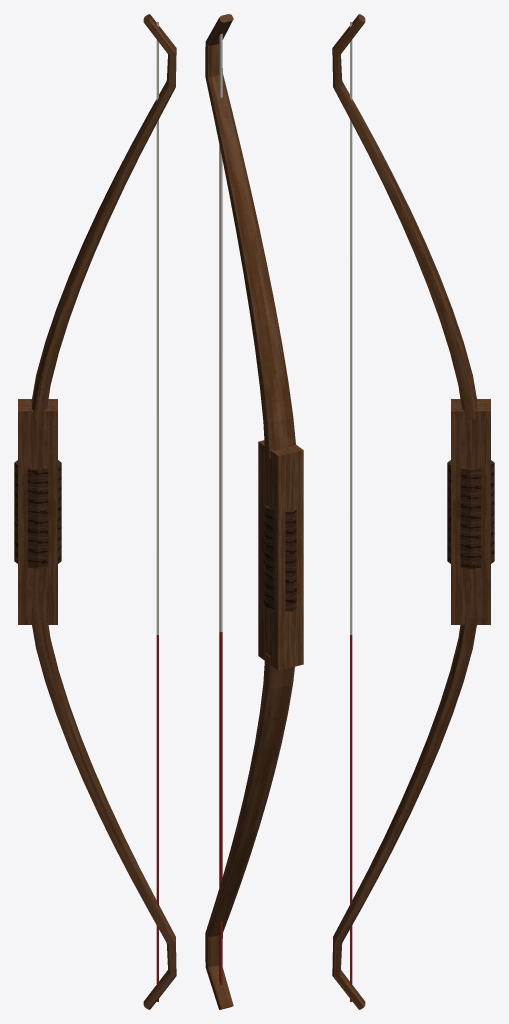
The model's file is bow.glb.
3 views of the same model, side by side, from view 1: azimuth 90°, elevation 25°; view 2: azimuth 210°, elevation 25°; view 3: azimuth 270°, elevation 25° (orthographic).
Parts seen in each view (by area): view 1: W_Bow; view 2: W_Bow; view 3: W_Bow.
Boxes of the visible parts, left/top/right/bottom form: W_Bow: left=14, top=14, right=176, bottom=1009; W_Bow: left=205, top=14, right=303, bottom=1009; W_Bow: left=332, top=14, right=494, bottom=1009.
Bounding box in the file's own units: 0.039 × 1.21 × 0.1786.
Materials: 3 (3 with a texture image).
